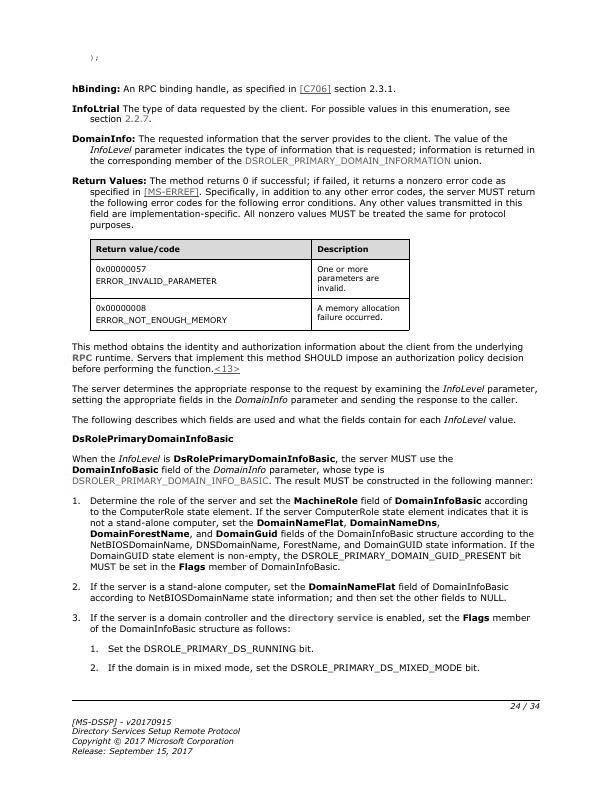table: (91, 239, 409, 332)
text: (70, 495, 537, 573), (70, 611, 532, 674), (69, 175, 537, 231), (71, 453, 537, 488), (70, 341, 524, 376), (70, 132, 537, 166), (70, 381, 540, 406), (69, 580, 510, 603), (71, 103, 511, 124), (67, 716, 240, 757), (69, 412, 518, 426), (69, 82, 397, 96), (71, 433, 237, 446)
